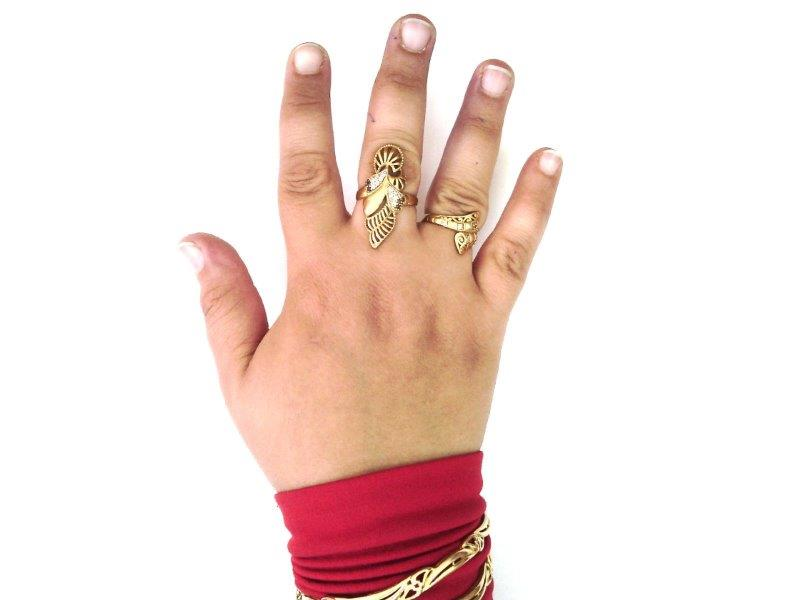hand: (178, 14, 566, 472)
